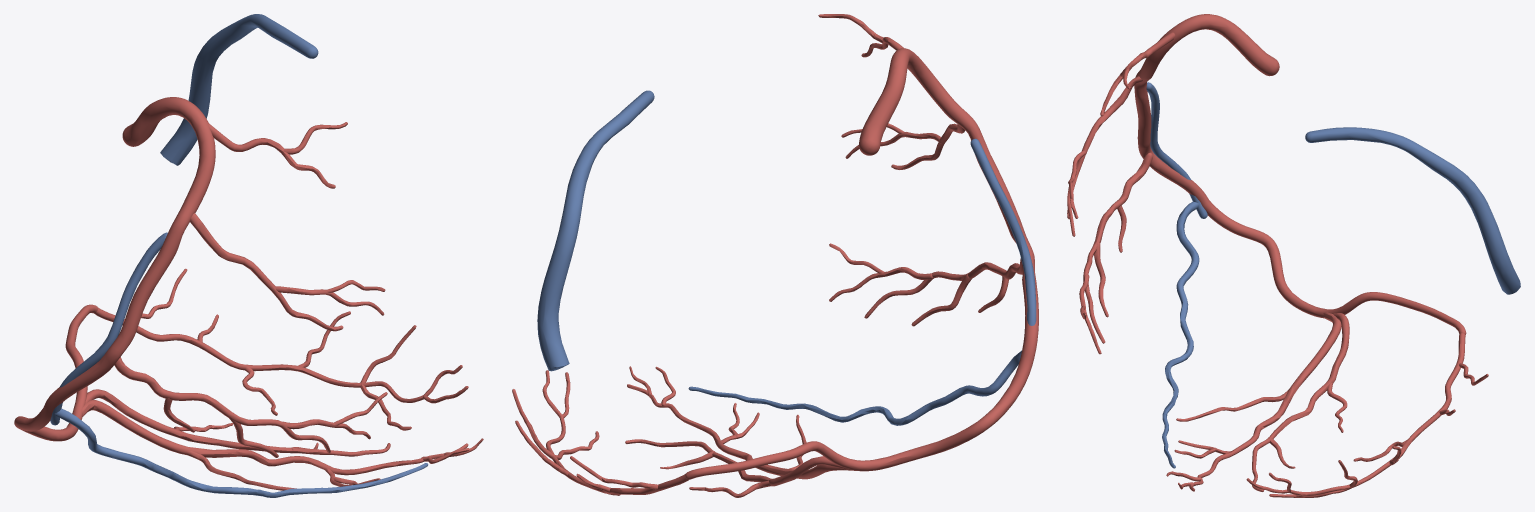
Rendered from thorax-8.glb.
3 views of the same model, side by side, from view 1: azimuth 30°, elevation 25°; view 2: azimuth 150°, elevation 25°; view 3: azimuth 270°, elevation 25° (orthographic). The views are drawn at different scales.
Visible parts, largest first — view 1: FJ2723, FJ2656, FJ2727, FJ2692, FJ2693, FJ2714, FJ2724, FJ2672, FJ2671, FJ2670, FJ2673, FJ2696; view 2: FJ2723, FJ2656, FJ2727, FJ2724, FJ2693, FJ2692, FJ2672, FJ2714, FJ2667, FJ2671; view 3: FJ2723, FJ2656, FJ2727, FJ2692, FJ2693, FJ2714, FJ2672, FJ2724, FJ2671, FJ2670, FJ2696.
Boxes of the visible parts, left/top/right/bottom form: FJ2723: left=14, top=97, right=215, bottom=441; FJ2656: left=160, top=14, right=318, bottom=165; FJ2727: left=54, top=408, right=428, bottom=497; FJ2692: left=82, top=399, right=468, bottom=475; FJ2693: left=85, top=389, right=390, bottom=456; FJ2714: left=94, top=307, right=423, bottom=402; FJ2724: left=50, top=232, right=167, bottom=425; FJ2672: left=114, top=357, right=330, bottom=453; FJ2671: left=190, top=213, right=343, bottom=331; FJ2670: left=208, top=123, right=335, bottom=188; FJ2673: left=275, top=286, right=384, bottom=315; FJ2696: left=186, top=451, right=296, bottom=490; FJ2723: left=685, top=48, right=1038, bottom=479; FJ2656: left=537, top=90, right=654, bottom=371; FJ2727: left=688, top=350, right=1021, bottom=425; FJ2724: left=970, top=138, right=1036, bottom=325; FJ2693: left=625, top=439, right=855, bottom=486; FJ2692: left=627, top=384, right=856, bottom=479; FJ2672: left=864, top=258, right=1023, bottom=318; FJ2714: left=546, top=416, right=688, bottom=494; FJ2667: left=829, top=267, right=933, bottom=301; FJ2671: left=891, top=123, right=964, bottom=169; FJ2723: left=1134, top=14, right=1466, bottom=334; FJ2656: left=1305, top=127, right=1520, bottom=294; FJ2727: left=1162, top=201, right=1199, bottom=468; FJ2692: left=1189, top=312, right=1341, bottom=491; FJ2693: left=1252, top=313, right=1349, bottom=491; FJ2714: left=1289, top=333, right=1465, bottom=495; FJ2672: left=1083, top=152, right=1152, bottom=343; FJ2724: left=1146, top=82, right=1207, bottom=218; FJ2671: left=1067, top=76, right=1142, bottom=218; FJ2670: left=1100, top=32, right=1175, bottom=116; FJ2696: left=1176, top=389, right=1288, bottom=421.
Size of the model in its own units: 0.0953 by 0.0861 by 0.0946.
